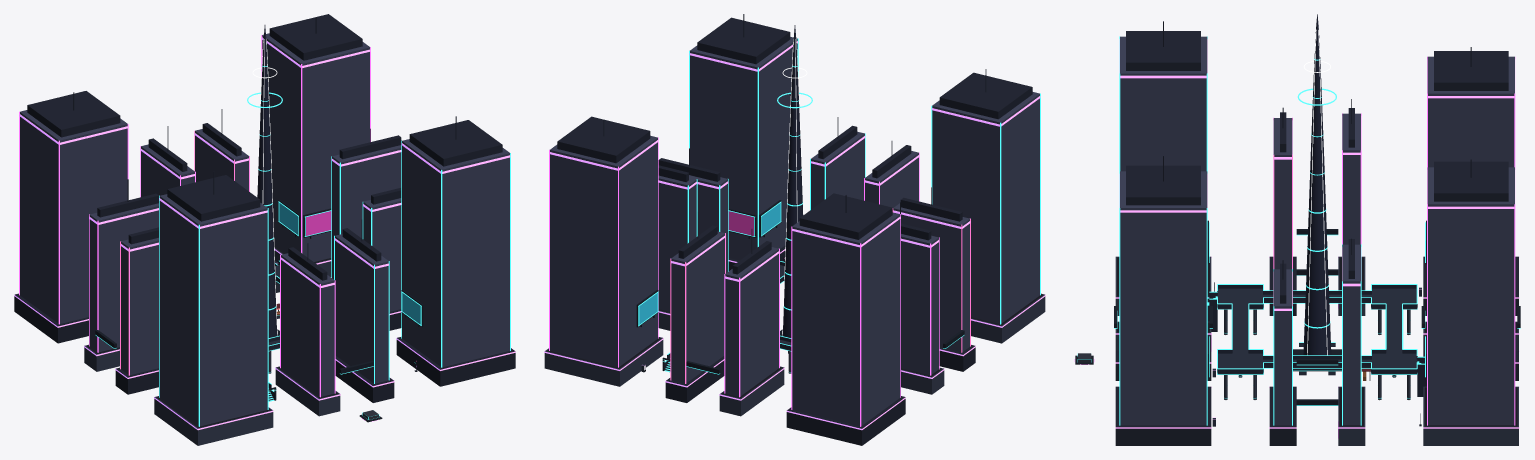
3 views of the same model, side by side, from view 1: azimuth 30°, elevation 25°; view 2: azimuth 150°, elevation 25°; view 3: azimuth 270°, elevation 25° (orthographic). The views are drawn at different scales.
Visible parts, largest first — view 1: district_city_cero.lod1; view 2: district_city_cero.lod1; view 3: district_city_cero.lod1.
Part boxes in pixels (<box>): district_city_cero.lod1: <box>14,14,515,445</box>; district_city_cero.lod1: <box>544,14,1045,445</box>; district_city_cero.lod1: <box>1074,14,1520,445</box>.
Bounding box in the file's own units: 97.84 × 92.01 × 107.
